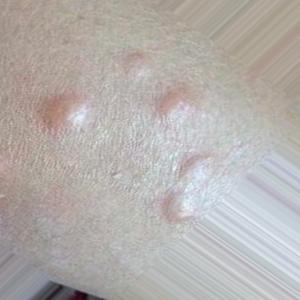Fleas: (33, 87, 91, 134), (172, 144, 210, 185), (153, 90, 192, 120), (160, 189, 193, 222), (123, 53, 143, 77)
